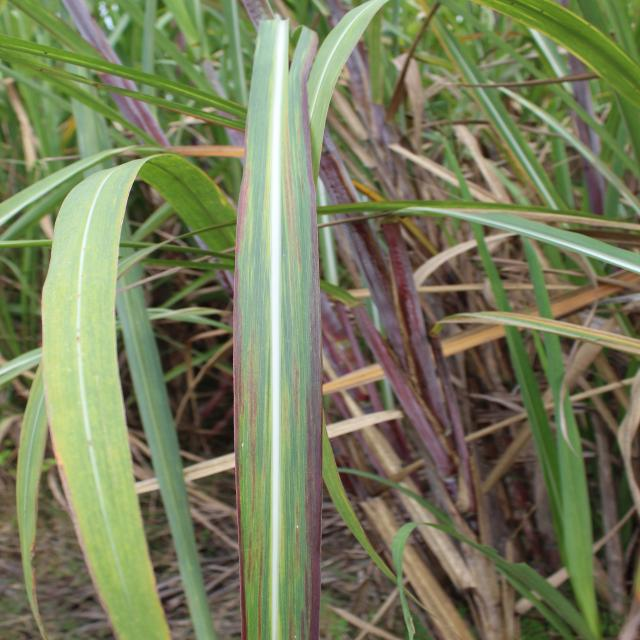Sugarcane: (2, 3, 237, 394), (31, 163, 183, 640), (232, 10, 328, 638), (474, 222, 602, 640), (327, 366, 505, 637), (430, 1, 639, 161), (384, 511, 601, 639), (552, 301, 636, 618), (337, 208, 637, 286), (3, 33, 238, 127), (495, 86, 640, 221), (301, 1, 407, 166), (121, 240, 364, 311), (0, 147, 134, 252), (430, 311, 640, 369), (50, 0, 116, 177), (118, 193, 226, 287), (458, 216, 524, 338), (400, 204, 640, 234), (1, 1, 96, 69), (361, 0, 395, 114), (157, 0, 206, 63), (0, 344, 44, 402)
